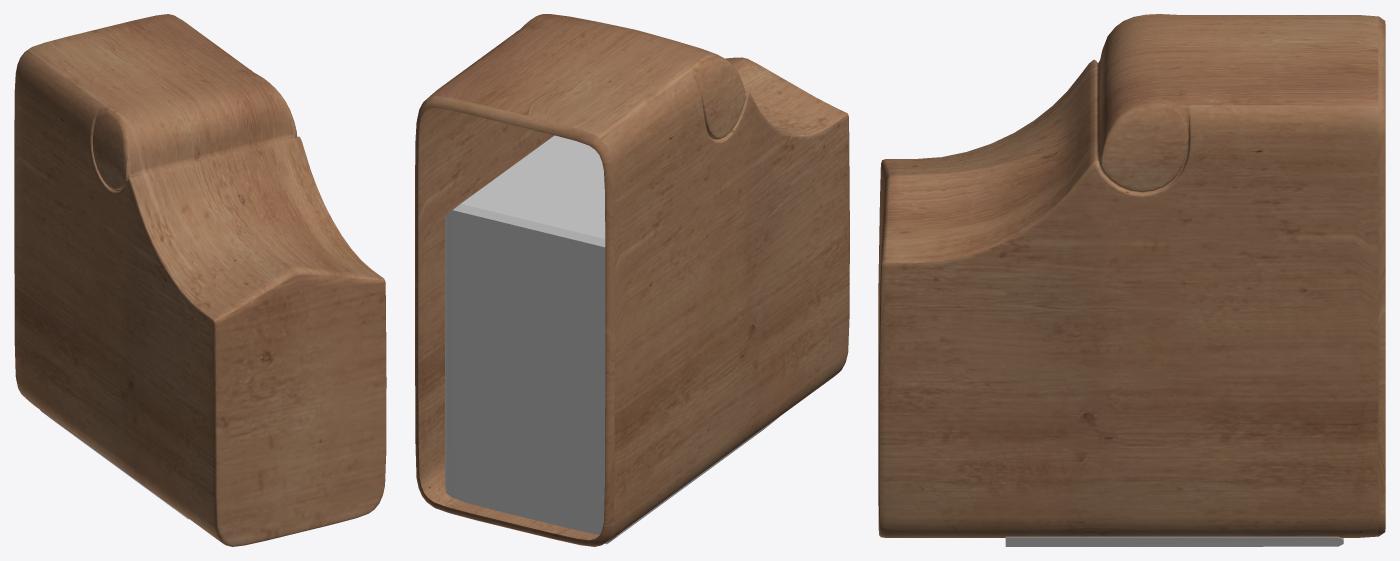
File: SM_HBJ_Beam03A.fbx
3 views of the same model, side by side, from view 1: azimuth 30°, elevation 25°; view 2: azimuth 150°, elevation 25°; view 3: azimuth 270°, elevation 25° (orthographic). The views are drawn at different scales.
Visible parts, largest first — view 1: SM_HBJ_Beam03A; view 2: SM_HBJ_Beam03A, SM_HBJ_Beam03A_ConvexHulls; view 3: SM_HBJ_Beam03A, SM_HBJ_Beam03A_ConvexHulls.
Boxes of the visible parts, x1,y1,x2,y2 form: SM_HBJ_Beam03A: (14, 14, 386, 546); SM_HBJ_Beam03A: (415, 14, 849, 546); SM_HBJ_Beam03A_ConvexHulls: (445, 135, 779, 544); SM_HBJ_Beam03A: (878, 14, 1385, 537); SM_HBJ_Beam03A_ConvexHulls: (1005, 536, 1343, 546).
Bounding box in the file's own units: 22.02 × 45.32 × 44.85.
Materials: 2 (1 with a texture image).
